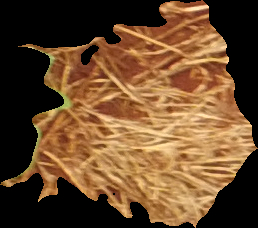soil: (1, 1, 257, 228)
